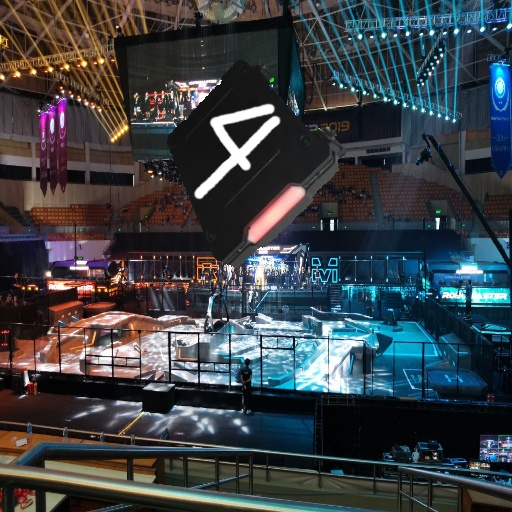red: (167, 60, 345, 267)
